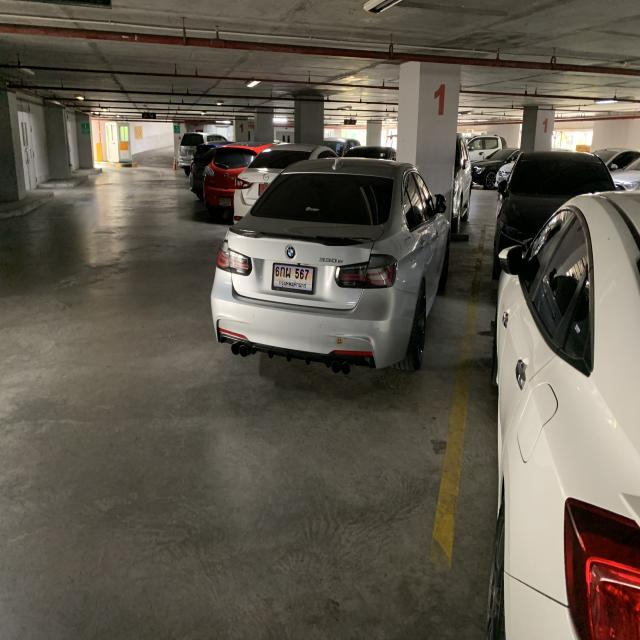license_plate: (272, 261, 318, 297)
